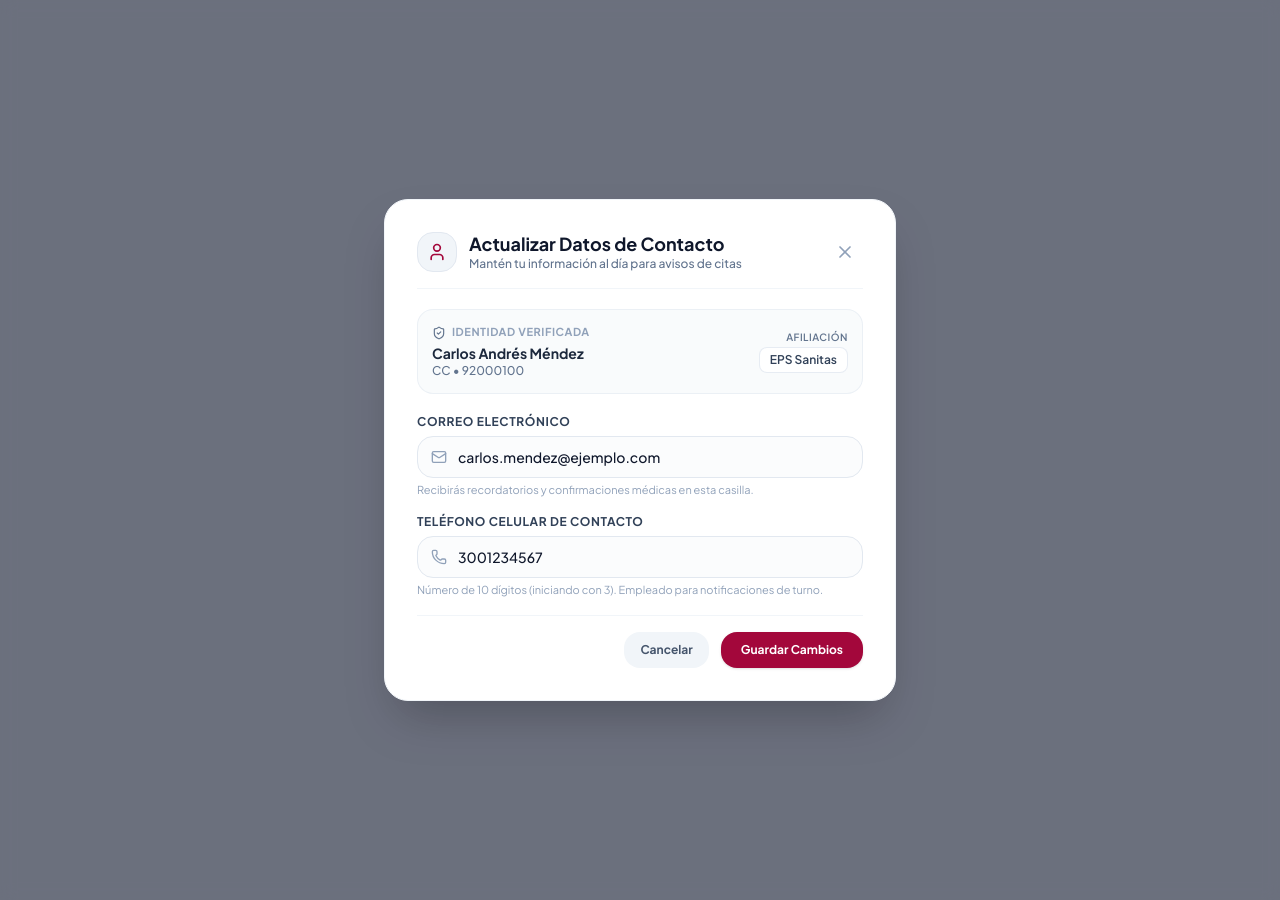
Scenario: EditProfileModal - Edición de Datos de Contacto (RF-04) › valida que el teléfono móvil sea de 10 dígitos iniciando con 3 y el correo sea válido
Note: Ingrese teléfono inválido (menos de 10 dígitos o que no empiece con 3)
Type "12345" into the field with placeholder "3001234567" below "Teléfono Celular de Contacto".
click(640, 557); type("12345")  # box x1=417 y1=536 x2=863 y2=578
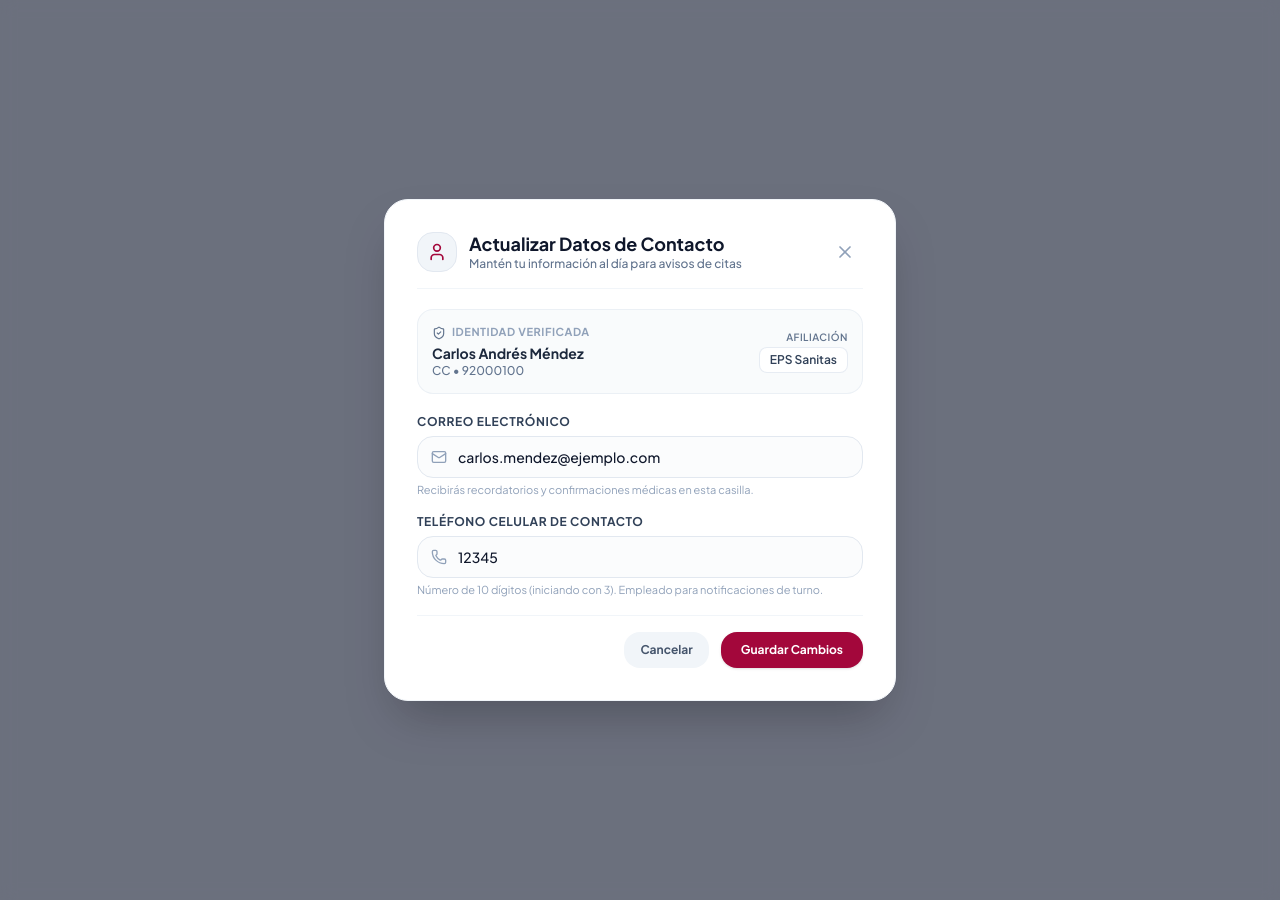
Replace the text in the field with placeholder "ejemplo@correo.com" below "Correo Electrónico" with "correo-invalido" at (640, 457), box x1=417 y1=436 x2=863 y2=478
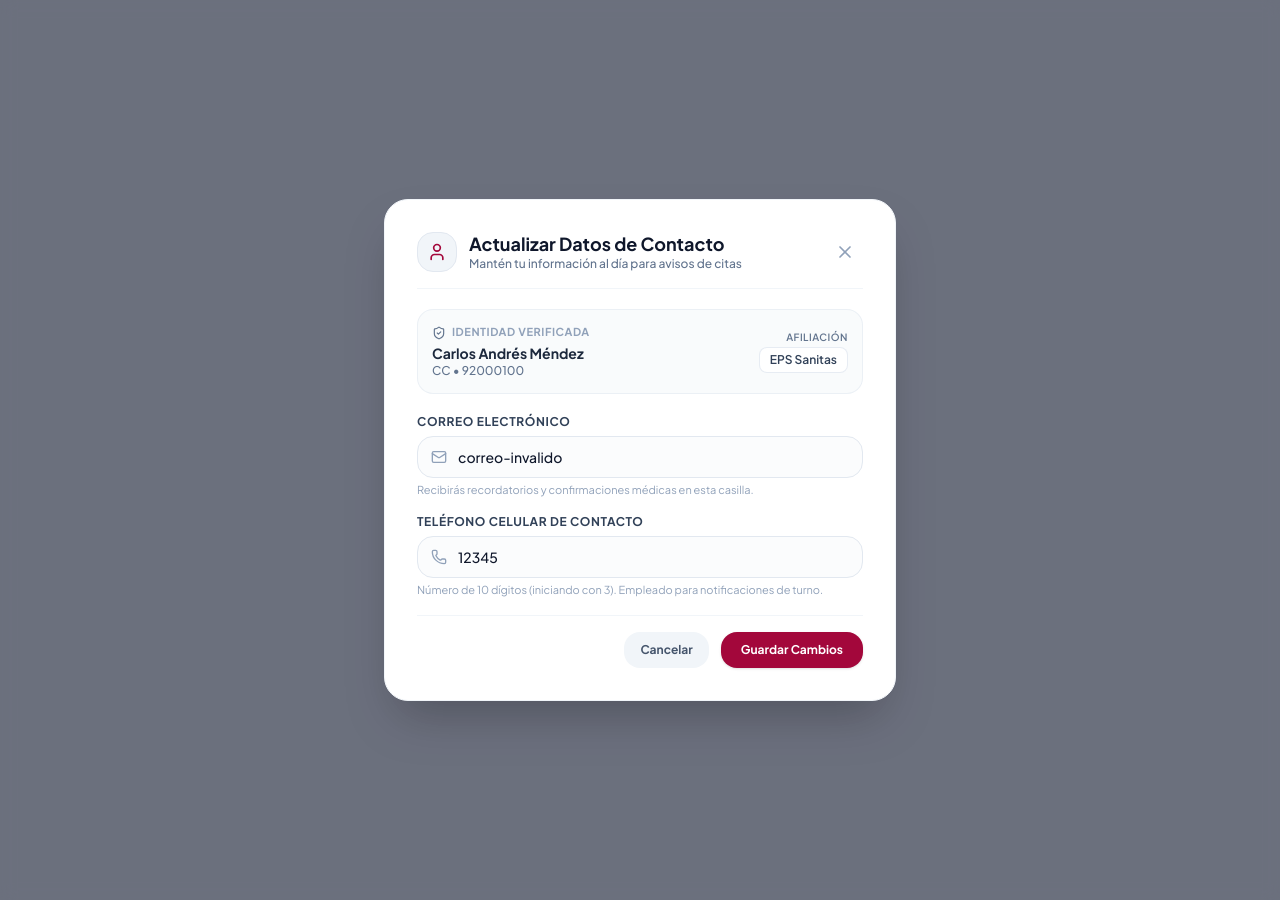
Click the button "Guardar Cambios".
click(792, 650)  # box x1=721 y1=632 x2=863 y2=668
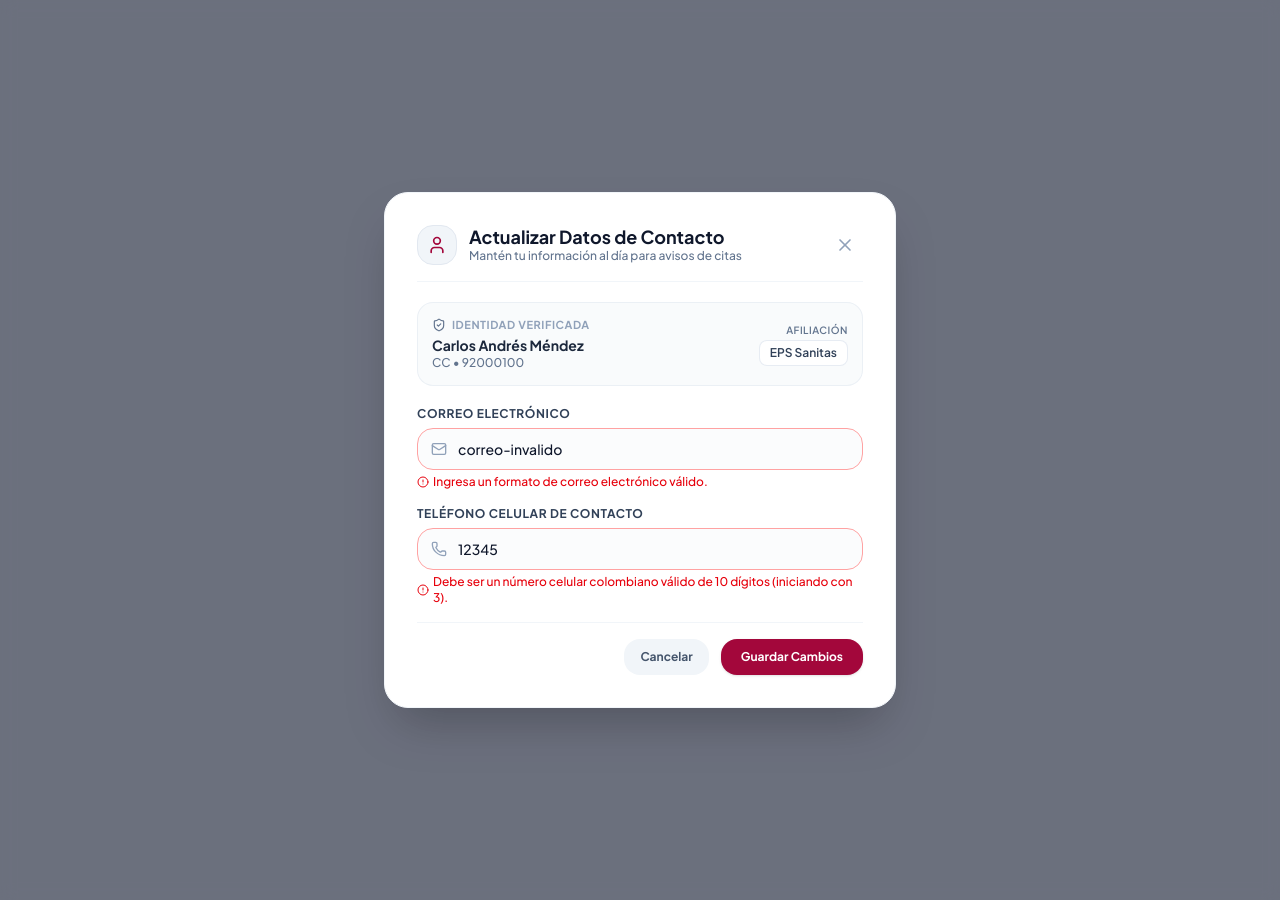
Expected: the text "Debe ser un número celular colombiano válido de 10 dígitos" is shown, x1=433 y1=574 x2=853 y2=605
Expected: the text "Ingresa un formato de correo electrónico válido." is shown, x1=417 y1=474 x2=708 y2=489
